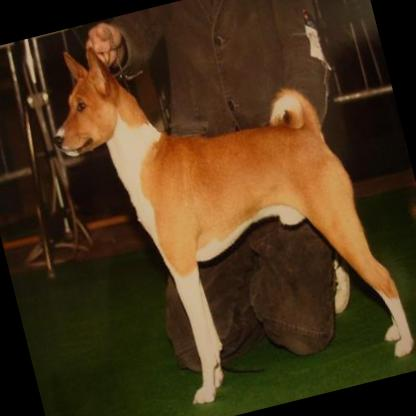basenji: (30, 0, 416, 416)
